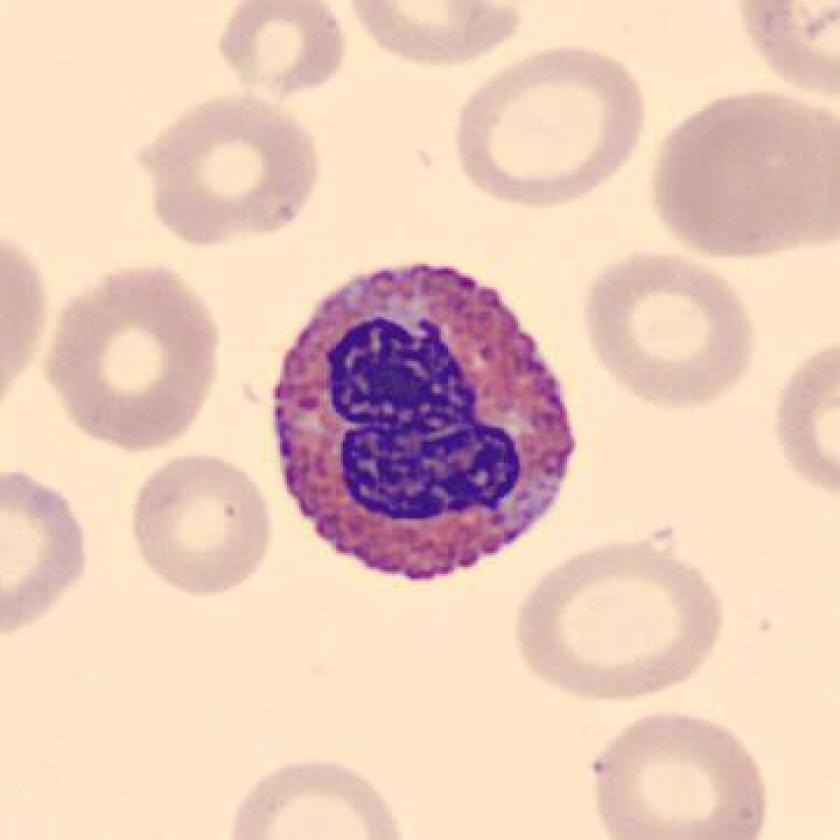eosinophil: (263, 254, 585, 601)
